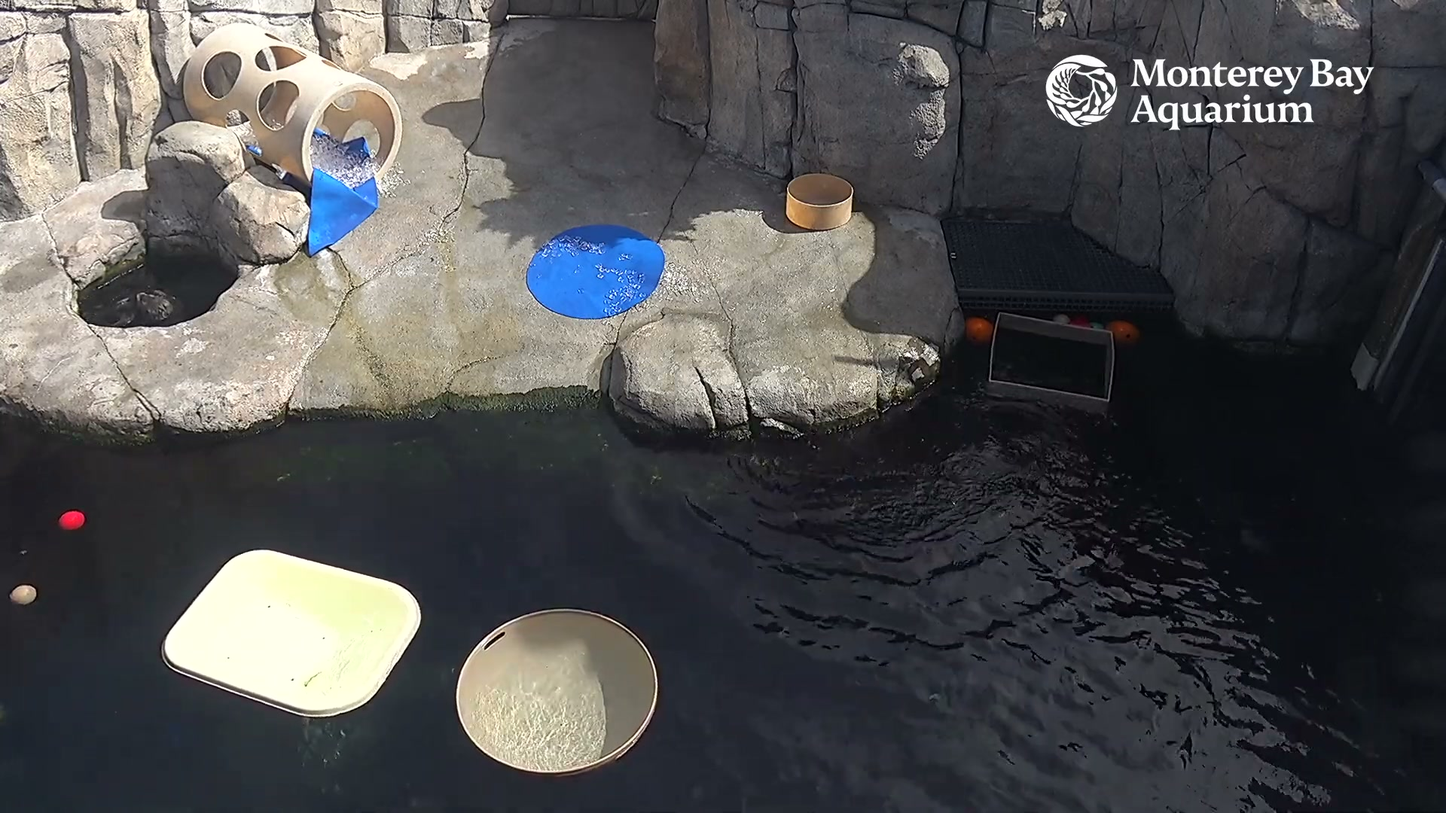Southern Sea Otter: (105, 285, 190, 335)
